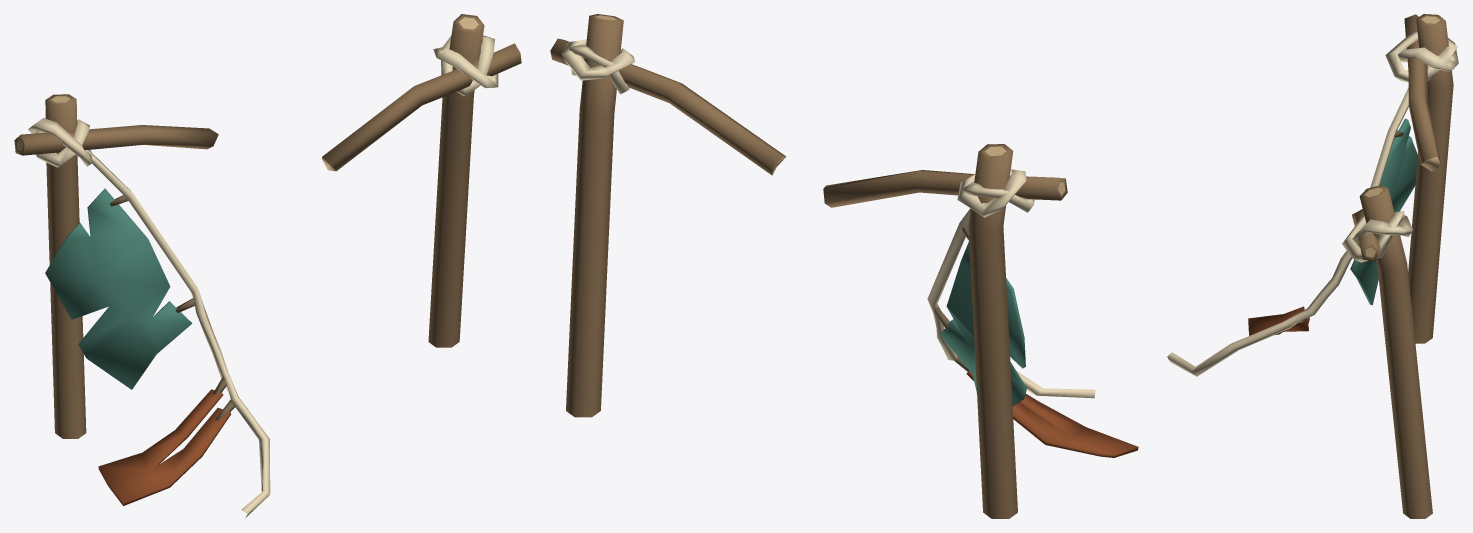
Rendered from rpgpp_av_hanger_wood_01b.gltf.
3 renders of one model, left to right at view 1: azimuth 30°, elevation 25°; view 2: azimuth 150°, elevation 25°; view 3: azimuth 270°, elevation 25°, orthographic. The views are drawn at different scales.
Visible parts, largest first — view 1: rpgpp_av_hanger_wood_01b; view 2: rpgpp_av_hanger_wood_01b; view 3: rpgpp_av_hanger_wood_01b.
Boxes of the visible parts, x1=… form: rpgpp_av_hanger_wood_01b: x1=14, y1=14, x2=521, y2=518; rpgpp_av_hanger_wood_01b: x1=550, y1=14, x2=1138, y2=518; rpgpp_av_hanger_wood_01b: x1=1167, y1=14, x2=1458, y2=518.
Size of the model in its own units: 0.0331 by 0.0226 by 0.0182.
Materials: 1 (1 with a texture image).
